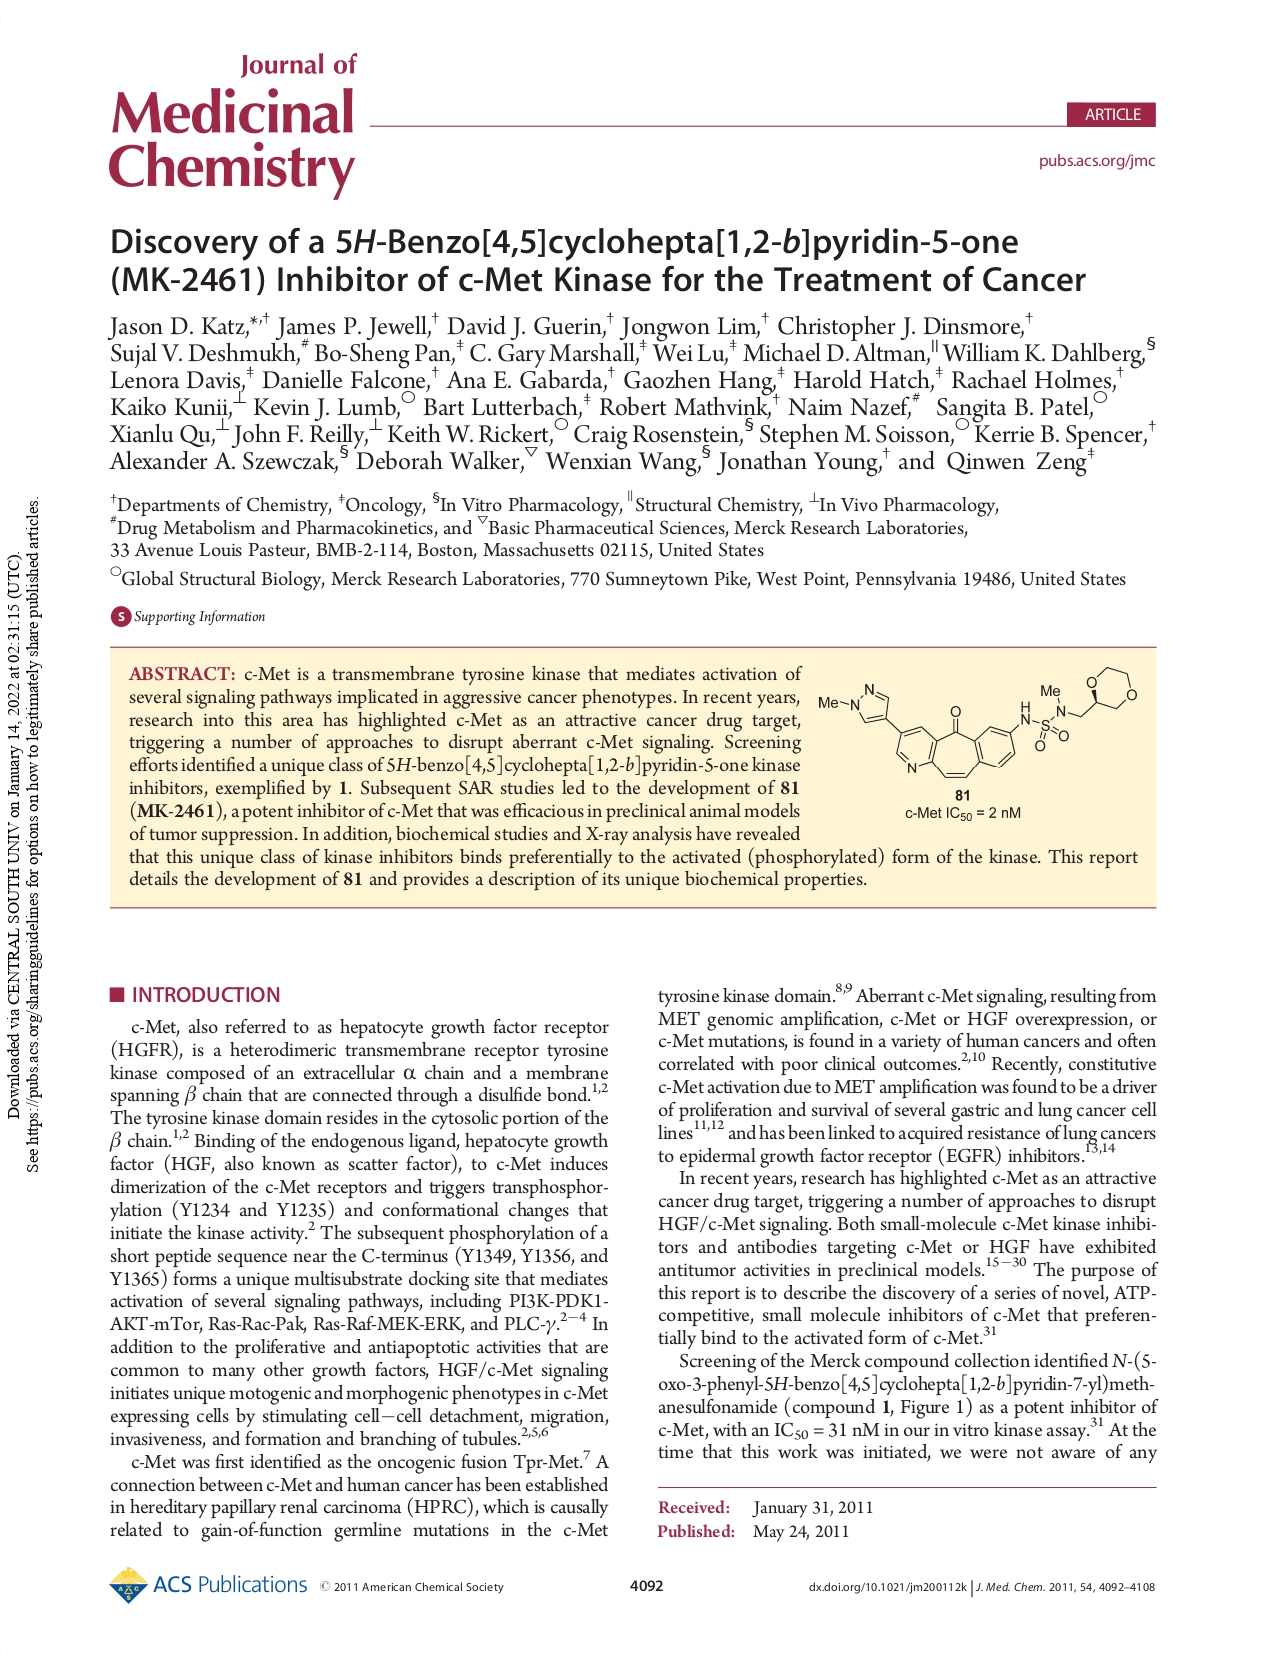exist_molecular: (813, 662, 1138, 785)
